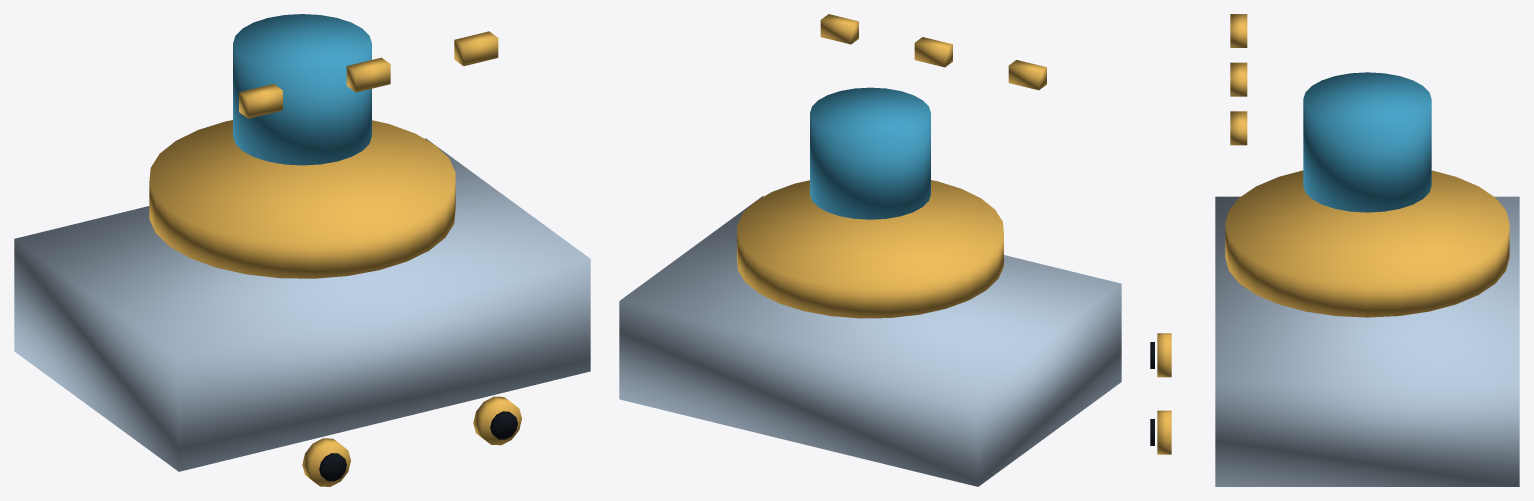
Rendered from 76_L93_MicroSampleAblationStage.fbx.
3 views of the same model, side by side, from view 1: azimuth 30°, elevation 25°; view 2: azimuth 150°, elevation 25°; view 3: azimuth 270°, elevation 25° (orthographic). The views are drawn at different scales.
Parts seen in each view (by area): view 1: L92_MicroSampleAblationStage_Part_0000, L92_MicroSampleAblationStage_Part_0001, L92_MicroSampleAblationStage_Part_0002, L92_MicroSampleAblationStage_Part_0003, L92_MicroSampleAblationStage_Part_0006, L92_MicroSampleAblationStage_Part_0004, L92_MicroSampleAblationStage_Part_0005, L92_MicroSampleAblationStage_Part_0007; view 2: L92_MicroSampleAblationStage_Part_0000, L92_MicroSampleAblationStage_Part_0001, L92_MicroSampleAblationStage_Part_0002, L92_MicroSampleAblationStage_Part_0003; view 3: L92_MicroSampleAblationStage_Part_0000, L92_MicroSampleAblationStage_Part_0001, L92_MicroSampleAblationStage_Part_0002, L92_MicroSampleAblationStage_Part_0003, L92_MicroSampleAblationStage_Part_0004, L92_MicroSampleAblationStage_Part_0006.
Boxes of the visible parts, x1=… form: L92_MicroSampleAblationStage_Part_0000: x1=14, y1=138, x2=590, y2=471; L92_MicroSampleAblationStage_Part_0001: x1=149, y1=120, x2=455, y2=278; L92_MicroSampleAblationStage_Part_0002: x1=233, y1=14, x2=371, y2=165; L92_MicroSampleAblationStage_Part_0003: x1=239, y1=31, x2=498, y2=118; L92_MicroSampleAblationStage_Part_0006: x1=473, y1=396, x2=521, y2=445; L92_MicroSampleAblationStage_Part_0004: x1=302, y1=438, x2=350, y2=486; L92_MicroSampleAblationStage_Part_0005: x1=319, y1=453, x2=346, y2=481; L92_MicroSampleAblationStage_Part_0007: x1=490, y1=411, x2=517, y2=439; L92_MicroSampleAblationStage_Part_0000: x1=619, y1=196, x2=1121, y2=486; L92_MicroSampleAblationStage_Part_0001: x1=737, y1=180, x2=1003, y2=318; L92_MicroSampleAblationStage_Part_0002: x1=810, y1=87, x2=930, y2=219; L92_MicroSampleAblationStage_Part_0003: x1=820, y1=14, x2=1046, y2=90; L92_MicroSampleAblationStage_Part_0000: x1=1215, y1=196, x2=1519, y2=486; L92_MicroSampleAblationStage_Part_0001: x1=1225, y1=170, x2=1509, y2=317; L92_MicroSampleAblationStage_Part_0002: x1=1303, y1=72, x2=1431, y2=212; L92_MicroSampleAblationStage_Part_0003: x1=1230, y1=14, x2=1247, y2=145; L92_MicroSampleAblationStage_Part_0004: x1=1157, y1=333, x2=1171, y2=377; L92_MicroSampleAblationStage_Part_0006: x1=1157, y1=410, x2=1171, y2=454.
Bounding box in the file's own units: 130 × 112 × 109.
